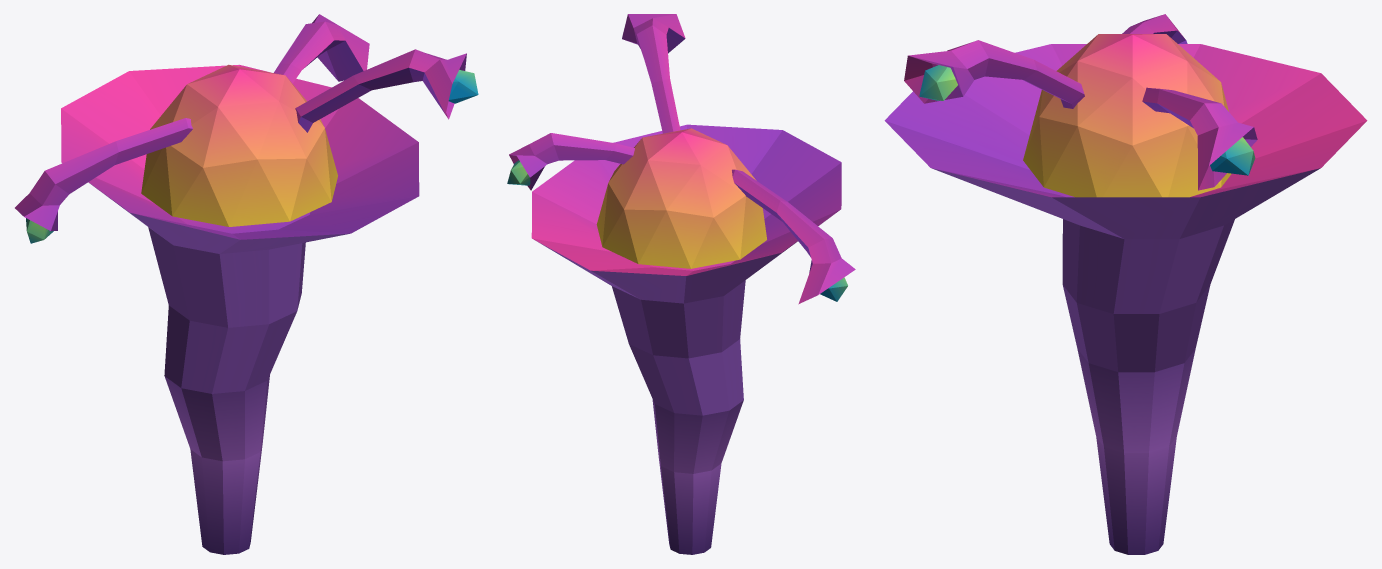
File: SM_Tree_A_03.fbx
3 views of the same model, side by side, from view 1: azimuth 30°, elevation 25°; view 2: azimuth 150°, elevation 25°; view 3: azimuth 270°, elevation 25° (orthographic). The views are drawn at different scales.
Parts seen in each view (by area): view 1: TreeTrunk.002, TreeBall.002, TreeBranch.006, TreeBranch.008, TreeBranch.007, TreeFruit.008; view 2: TreeTrunk.002, TreeBall.002, TreeBranch.006, TreeBranch.008, TreeBranch.007; view 3: TreeTrunk.002, TreeBall.002, TreeBranch.008, TreeBranch.007, TreeFruit.007, TreeFruit.008, TreeBranch.006.
Part boxes in pixels (box(x1,y1,x2,y2)): TreeTrunk.002: box(61, 64, 419, 554); TreeBall.002: box(141, 64, 337, 226); TreeBranch.006: box(15, 118, 192, 231); TreeBranch.008: box(295, 49, 466, 132); TreeBranch.007: box(274, 14, 369, 83); TreeFruit.008: box(448, 69, 478, 103); TreeTrunk.002: box(531, 124, 841, 554); TreeBall.002: box(596, 128, 766, 268); TreeBranch.006: box(732, 169, 855, 304); TreeBranch.008: box(622, 14, 685, 133); TreeBranch.007: box(509, 133, 634, 190); TreeTrunk.002: box(884, 44, 1367, 554); TreeBall.002: box(1023, 34, 1231, 197); TreeBranch.008: box(904, 40, 1084, 108); TreeBranch.007: box(1142, 87, 1257, 190); TreeFruit.007: box(1210, 137, 1255, 175); TreeFruit.008: box(919, 65, 957, 100); TreeBranch.006: box(1122, 14, 1187, 43).
Bounding box in the file's own units: 271 × 263 × 350.
